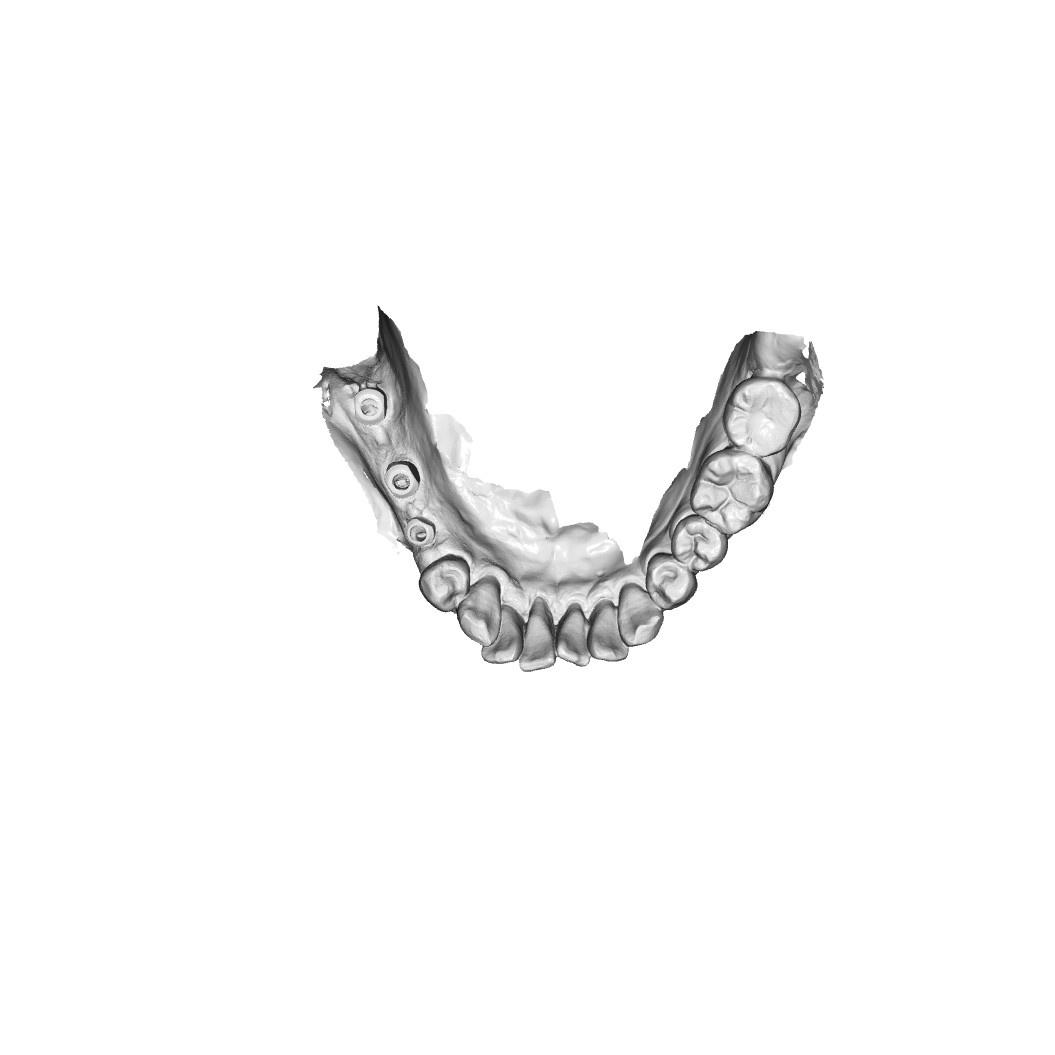canine: (456, 577, 509, 648), (619, 583, 668, 648)
implant: (351, 379, 401, 425), (383, 459, 421, 502), (403, 515, 436, 554)
incisor: (517, 608, 558, 673), (480, 606, 521, 670), (553, 603, 592, 670), (589, 604, 631, 663)
molar: (694, 449, 775, 536), (723, 376, 804, 456)
premolar: (415, 552, 469, 618), (670, 513, 728, 570), (647, 554, 700, 610)
